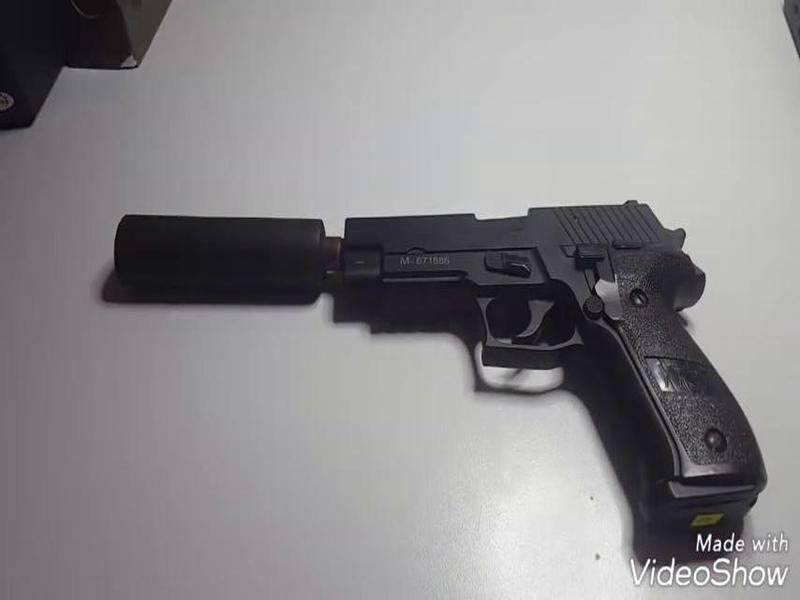Pistola: (337, 194, 785, 529)
